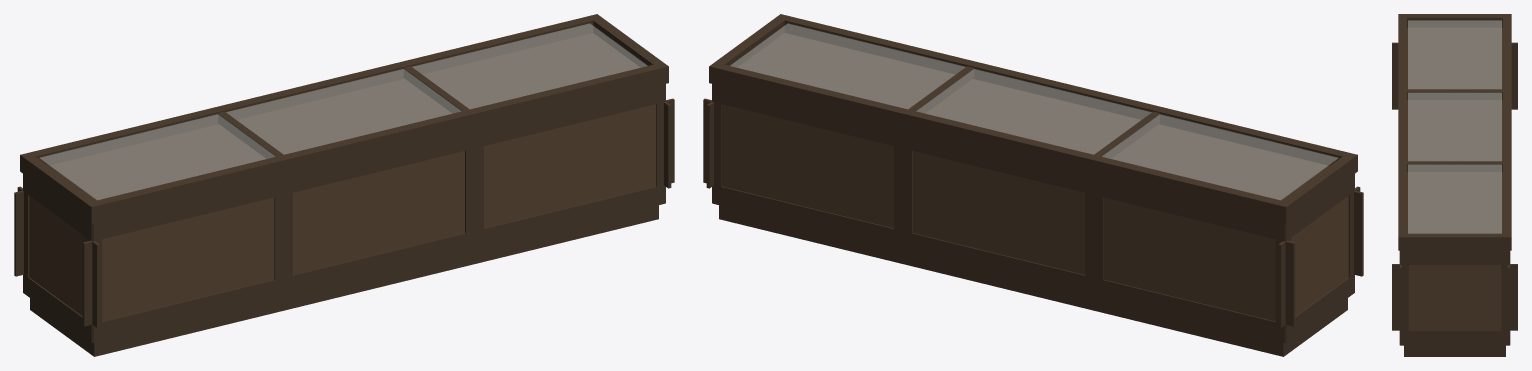
File: glass-topped-display-counter.glb
The picture shows the model from 3 angles, left to right: view 1: azimuth 30°, elevation 25°; view 2: azimuth 150°, elevation 25°; view 3: azimuth 270°, elevation 25°; orthographic projection. The views are drawn at different scales.
Parts seen in each view (by area): view 1: Cornice, PanelY-1_0, PanelY-1_1, PanelY-1_2, Raily-1-0.31, TopRailBack, Raily-1+0.31, GlassPane_0, GlassPane_2, GlassPane_1, TopRailFront, Plinth (+15 smaller); view 2: Cornice, PanelY+1_0, PanelY+1_1, PanelY+1_2, Raily+1-0.31, TopRailFront, Raily+1+0.31, GlassPane_0, GlassPane_2, GlassPane_1, TopRailBack, Plinth (+15 smaller); view 3: Cornice, GlassPane_2, GlassPane_0, GlassPane_1, PanelX+1_0, TopRailFront, TopRailBack, Railx+1-0.31, Railx+1+0.31, TopRailEndR, TopRailEndL, Plinth (+8 smaller).
Part boxes in pixels (box(x1,y1,x2,y2)): Cornice: box(20, 33, 668, 223); PanelY-1_0: box(102, 197, 274, 321); PanelY-1_1: box(293, 151, 464, 274); PanelY-1_2: box(484, 104, 655, 228); Raily-1-0.31: box(92, 185, 665, 343); TopRailBack: box(86, 62, 668, 219); Raily-1+0.31: box(92, 84, 665, 241); GlassPane_0: box(40, 114, 275, 199); GlassPane_2: box(412, 23, 647, 108); GlassPane_1: box(226, 69, 461, 154); TopRailFront: box(20, 14, 602, 170); Plinth: box(30, 205, 658, 356); Cornice: box(709, 33, 1357, 223); PanelY+1_0: box(1103, 197, 1275, 321); PanelY+1_1: box(913, 151, 1084, 274); PanelY+1_2: box(722, 104, 893, 228); Raily+1-0.31: box(712, 185, 1285, 343); TopRailFront: box(709, 62, 1291, 219); Raily+1+0.31: box(712, 84, 1285, 241); GlassPane_0: box(1102, 114, 1337, 199); GlassPane_2: box(730, 23, 965, 108); GlassPane_1: box(916, 69, 1151, 154); TopRailBack: box(775, 14, 1357, 170); Plinth: box(719, 205, 1347, 356); Cornice: box(1398, 27, 1511, 250); GlassPane_2: box(1408, 164, 1501, 233); GlassPane_0: box(1408, 20, 1501, 88); GlassPane_1: box(1408, 92, 1501, 160); PanelX+1_0: box(1408, 265, 1501, 330); TopRailFront: box(1503, 14, 1511, 247); TopRailBack: box(1398, 14, 1406, 247); Railx+1-0.31: box(1400, 330, 1509, 345); Railx+1+0.31: box(1400, 250, 1509, 264); TopRailEndR: box(1407, 233, 1502, 247); TopRailEndL: box(1407, 14, 1502, 27); Plinth: box(1404, 345, 1505, 356).
Size of the model in its own units: 3.77 by 0.94 by 0.877.
